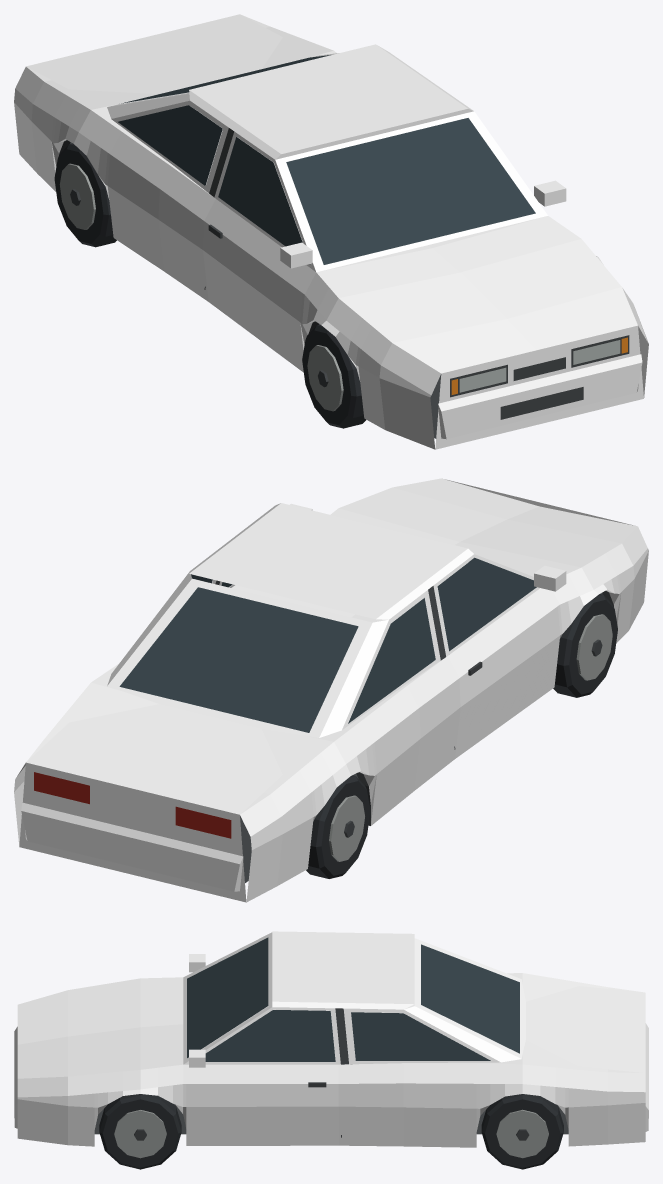
File: arvelle_outlaw_s.glb
3 renders of one model, top to bottom at view 1: azimuth 30°, elevation 25°; view 2: azimuth 150°, elevation 25°; view 3: azimuth 270°, elevation 25°, orthographic. The views are drawn at different scales.
Visible parts, largest first — view 1: arvelle_outlaw_s; view 2: arvelle_outlaw_s; view 3: arvelle_outlaw_s.
Part boxes in pixels (x1=…): arvelle_outlaw_s: x1=14, y1=14, x2=648, y2=449; arvelle_outlaw_s: x1=14, y1=478, x2=648, y2=902; arvelle_outlaw_s: x1=14, y1=931, x2=648, y2=1169.
Size of the model in its own units: 1.79 by 1.23 by 4.6.
8 materials, 1 textured.
